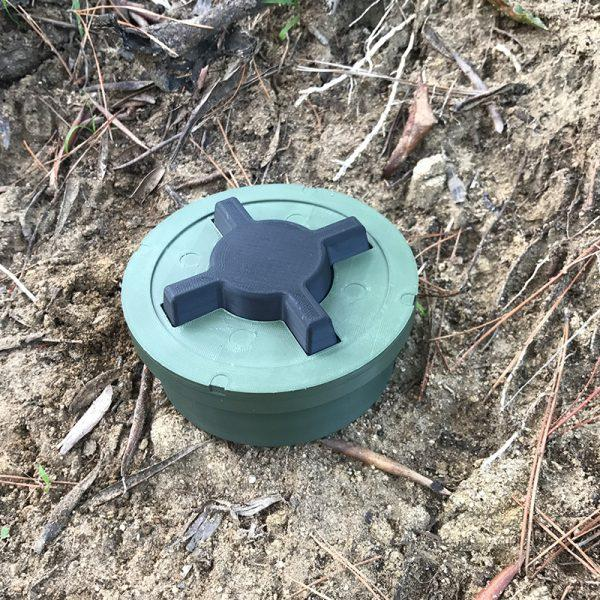pmn: (118, 181, 421, 450)
